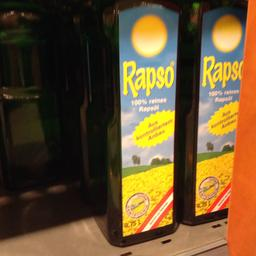oil: (86, 2, 180, 247), (174, 1, 246, 224)
